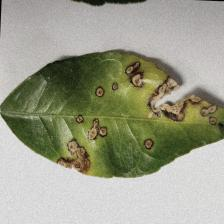canker: (50, 43, 214, 182)
